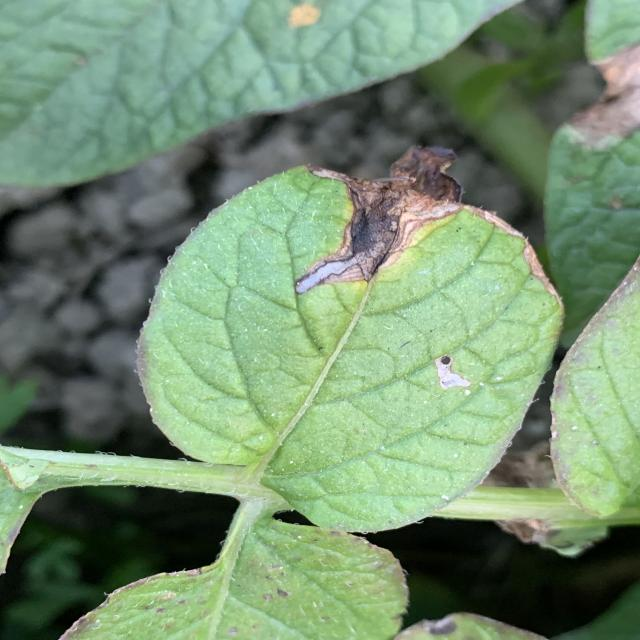lateblight: (295, 146, 463, 294), (568, 44, 640, 150)
